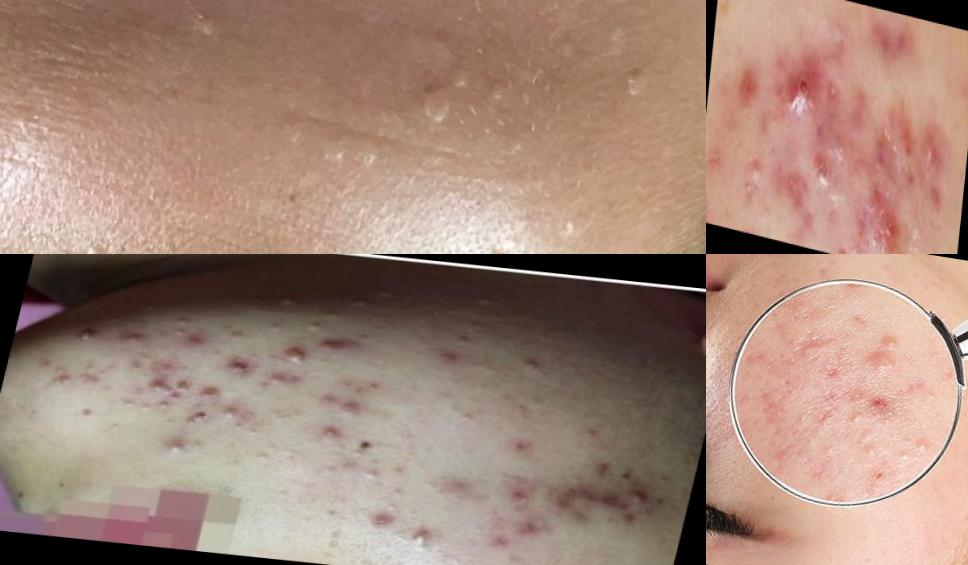acne_scars: (552, 482, 645, 515), (798, 317, 839, 355), (818, 391, 844, 429), (870, 393, 902, 416)
flat_wart: (274, 104, 403, 190), (417, 61, 482, 145), (613, 67, 674, 129), (180, 1, 237, 53), (462, 221, 530, 255)
papular: (866, 204, 914, 255), (305, 333, 362, 362), (500, 484, 548, 516), (736, 63, 759, 125), (218, 353, 261, 384), (328, 397, 385, 419), (505, 517, 549, 545), (305, 424, 357, 445), (876, 327, 910, 357), (139, 370, 181, 393), (424, 348, 465, 370), (115, 327, 153, 350), (69, 371, 106, 394), (259, 372, 297, 393), (213, 325, 251, 346), (176, 330, 211, 352), (200, 376, 222, 402)
purulent: (784, 66, 819, 133), (398, 519, 446, 556), (147, 433, 197, 461), (275, 344, 319, 368), (67, 326, 103, 347)
whitehead: (216, 397, 270, 438), (511, 347, 553, 379), (441, 404, 497, 428), (311, 497, 354, 528), (445, 322, 492, 350), (247, 438, 286, 470), (116, 397, 174, 418), (418, 478, 453, 504), (44, 366, 78, 391), (912, 425, 935, 458), (353, 466, 389, 486), (891, 442, 920, 466), (169, 312, 195, 337), (343, 295, 372, 316), (78, 358, 109, 377), (863, 438, 886, 463), (823, 439, 847, 462), (320, 308, 348, 327), (848, 402, 865, 433), (378, 286, 407, 303), (383, 497, 404, 517), (302, 325, 338, 335), (277, 294, 301, 308), (796, 409, 812, 429)
